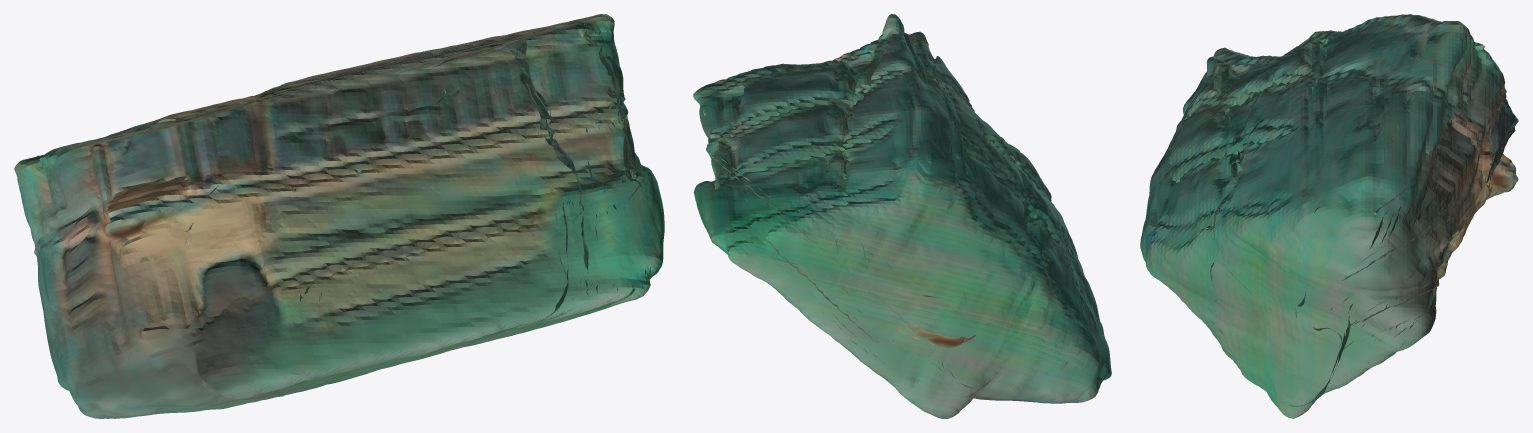
The picture shows the model from 3 angles, left to right: view 1: azimuth 30°, elevation 25°; view 2: azimuth 150°, elevation 25°; view 3: azimuth 270°, elevation 25°; orthographic projection. The views are drawn at different scales.
Parts seen in each view (by area): view 1: geometry_0; view 2: geometry_0; view 3: geometry_0.
Boxes of the visible parts, bbox=[...] form: geometry_0: bbox=[14, 14, 664, 418]; geometry_0: bbox=[693, 14, 1111, 418]; geometry_0: bbox=[1140, 14, 1518, 418].
Bounding box in the file's own units: 1.6 × 1.07 × 1.04.
